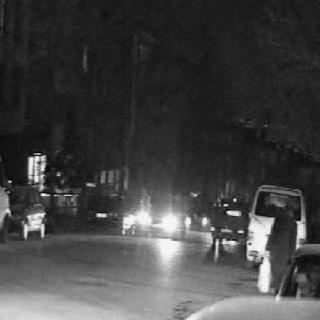other: (132, 198, 188, 268)
